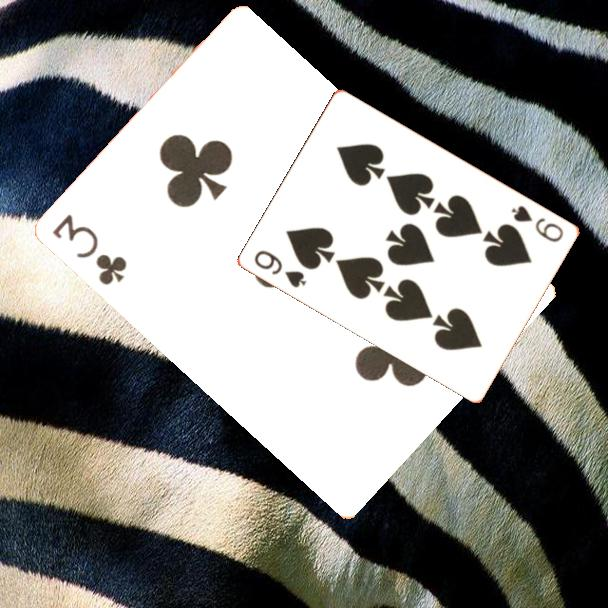c03: (49, 210, 131, 288)
s09: (251, 246, 310, 291), (508, 202, 567, 245)
